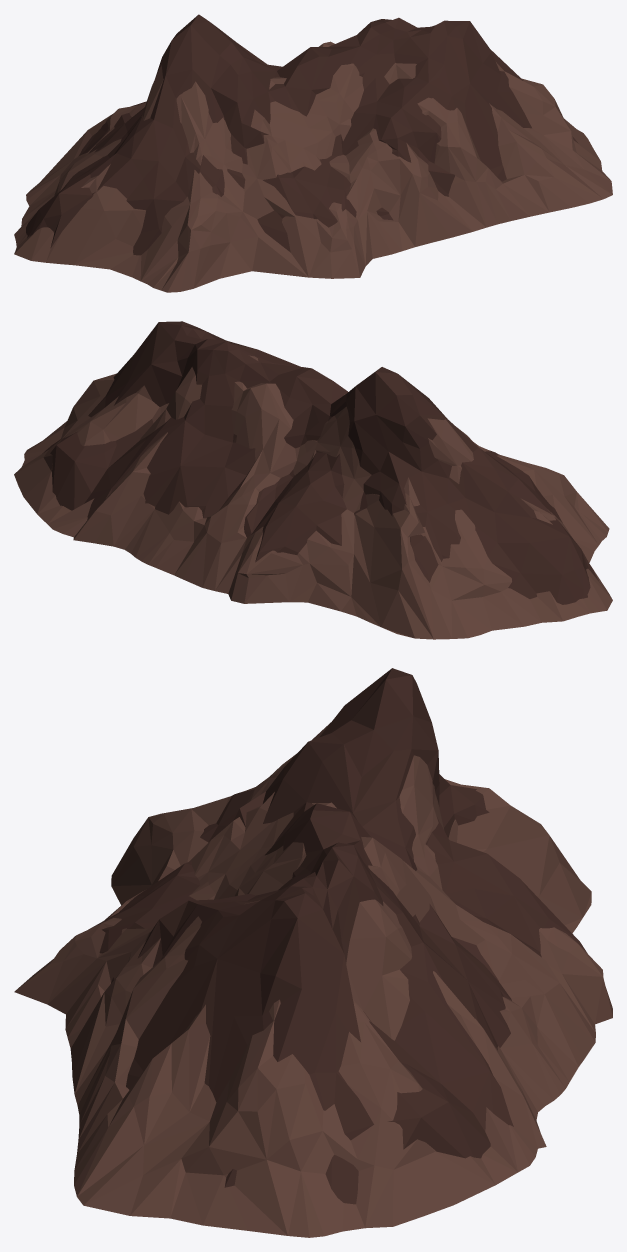
Rendered from brown_mountain_002.fbx.
The picture shows the model from 3 angles, top to bottom: view 1: azimuth 30°, elevation 25°; view 2: azimuth 150°, elevation 25°; view 3: azimuth 270°, elevation 25°; orthographic projection. The views are drawn at different scales.
Parts seen in each view (by area): view 1: brown_mountain_002; view 2: brown_mountain_002; view 3: brown_mountain_002.
Part boxes in pixels (x1=…): brown_mountain_002: x1=14, y1=14, x2=612, y2=292; brown_mountain_002: x1=14, y1=321, x2=612, y2=639; brown_mountain_002: x1=14, y1=668, x2=612, y2=1237.
Size of the model in its own units: 12815 by 7562 by 4022.
